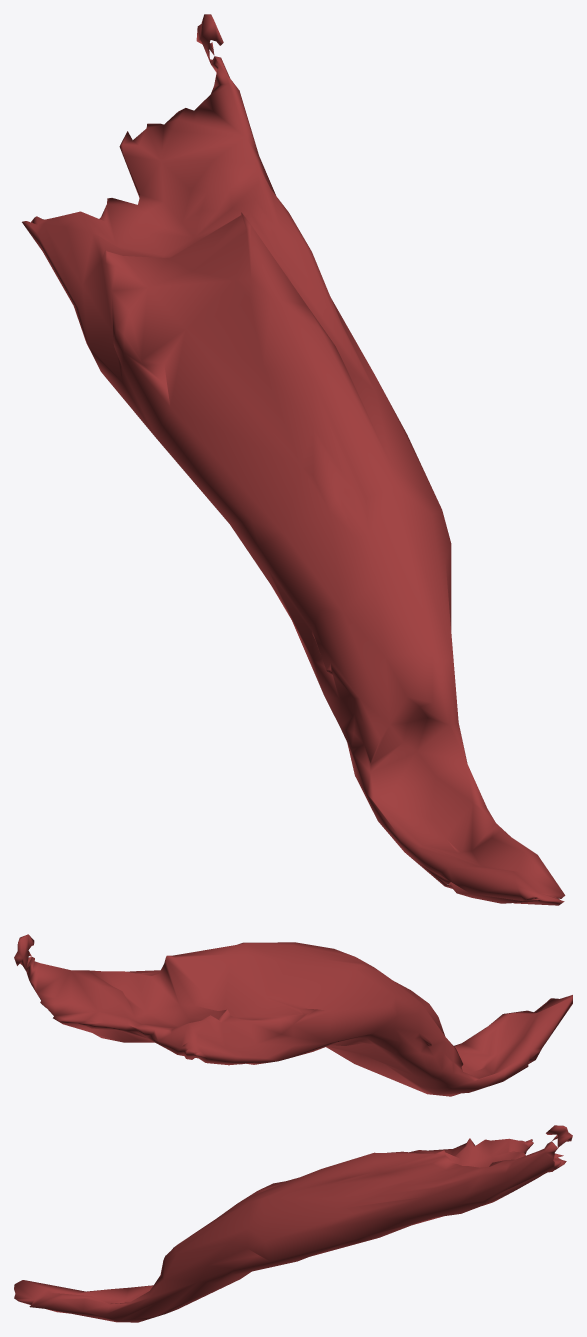
File: lateral-head-of-flexor-hallucis-brevis-r.glb
3 renders of one model, top to bottom at view 1: azimuth 30°, elevation 25°; view 2: azimuth 150°, elevation 25°; view 3: azimuth 270°, elevation 25°, orthographic. The views are drawn at different scales.
Visible parts, largest first — view 1: Lateral head of flexor hallucis brevis.r; view 2: Lateral head of flexor hallucis brevis.r; view 3: Lateral head of flexor hallucis brevis.r.
Boxes of the visible parts, x1=… form: Lateral head of flexor hallucis brevis.r: x1=22, y1=14, x2=565, y2=905; Lateral head of flexor hallucis brevis.r: x1=14, y1=934, x2=572, y2=1096; Lateral head of flexor hallucis brevis.r: x1=14, y1=1125, x2=572, y2=1322.
Bounding box in the file's own units: 0.0209 × 0.0385 × 0.0813.
